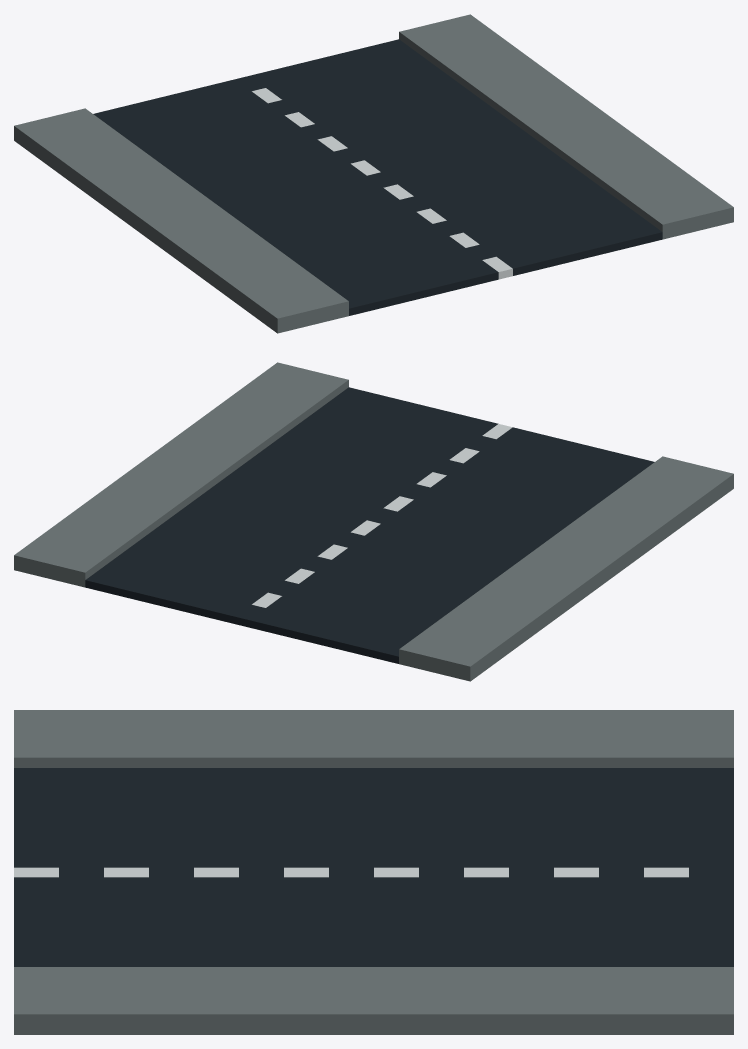
File: Road90.obj
3 views of the same model, one above another, from view 1: azimuth 30°, elevation 25°; view 2: azimuth 150°, elevation 25°; view 3: azimuth 270°, elevation 25° (orthographic). The views are drawn at different scales.
Size of the model in its own units: 6.4 by 0.2 by 6.4.
Materials: 1 (1 with a texture image).
